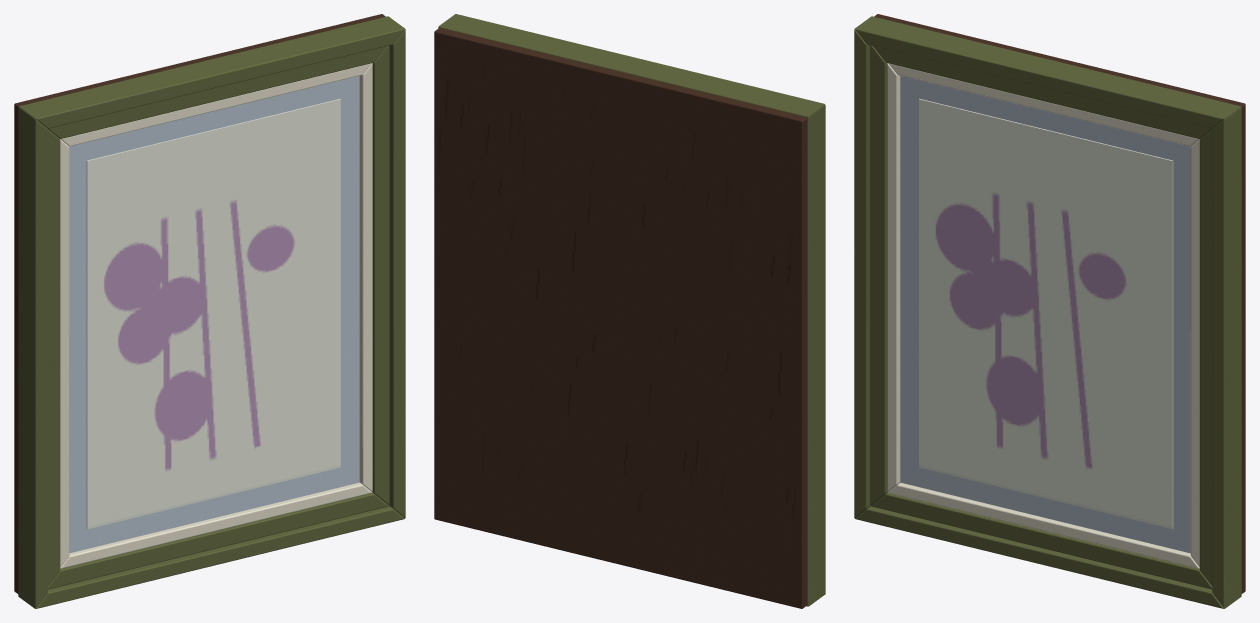
File: Frame_25_FUR06.fbx
3 renders of one model, left to right at view 1: azimuth 30°, elevation 25°; view 2: azimuth 150°, elevation 25°; view 3: azimuth 330°, elevation 25°, orthographic.
Parts seen in each view (by area): view 1: Frame_25; view 2: Frame_25; view 3: Frame_25.
Boxes of the visible parts, x1=… form: Frame_25: x1=14, y1=14, x2=405, y2=608; Frame_25: x1=434, y1=14, x2=825, y2=608; Frame_25: x1=854, y1=14, x2=1245, y2=608.
Size of the model in its own units: 0.34 by 0.43 by 0.036.
2 materials, 2 textured.
